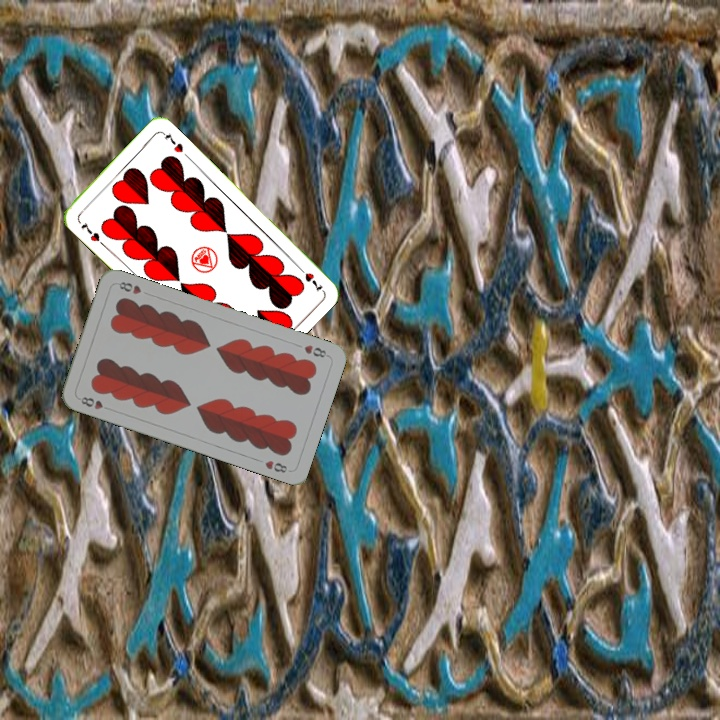H7: (293, 261, 325, 295), (77, 218, 102, 244)
H8: (300, 341, 331, 360), (77, 392, 105, 412)
